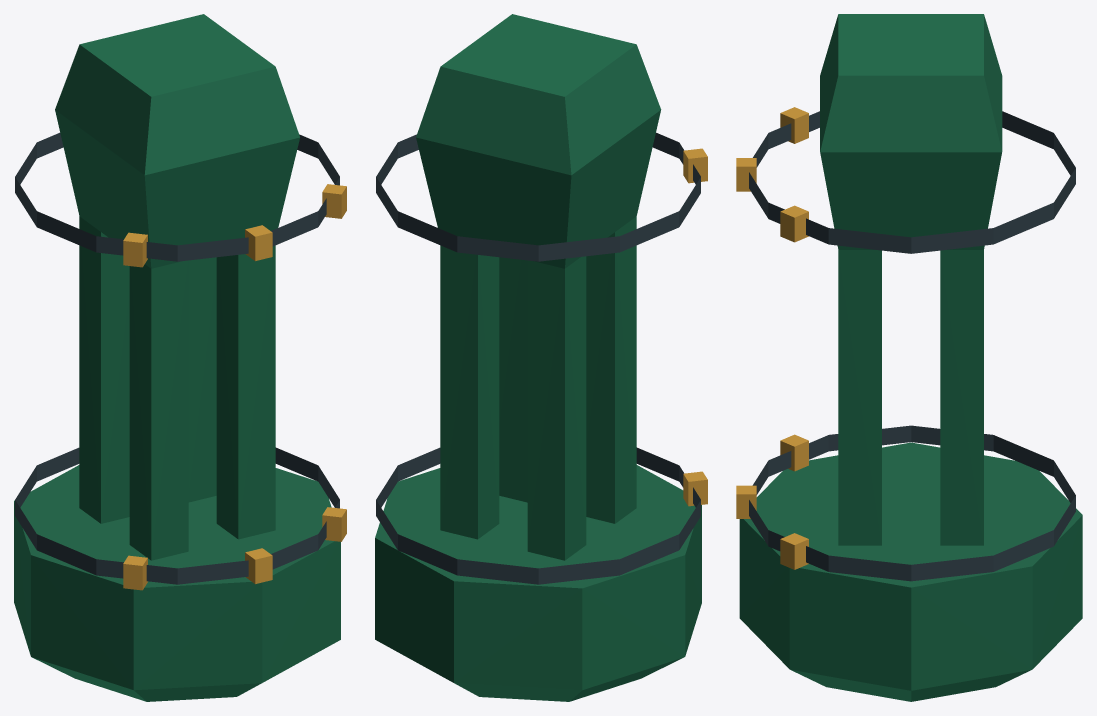
The model's file is signal-buoy-mint.glb.
The picture shows the model from 3 angles, left to right: view 1: azimuth 30°, elevation 25°; view 2: azimuth 150°, elevation 25°; view 3: azimuth 270°, elevation 25°; orthographic projection.
Parts seen in each view (by area): view 1: signal-buoy-mint; view 2: signal-buoy-mint; view 3: signal-buoy-mint.
Boxes of the visible parts, x1=… form: signal-buoy-mint: x1=14, y1=14, x2=346, y2=701; signal-buoy-mint: x1=375, y1=14, x2=707, y2=701; signal-buoy-mint: x1=736, y1=14, x2=1082, y2=701.
Bounding box in the file's own units: 0.79 × 1.54 × 0.7977.
